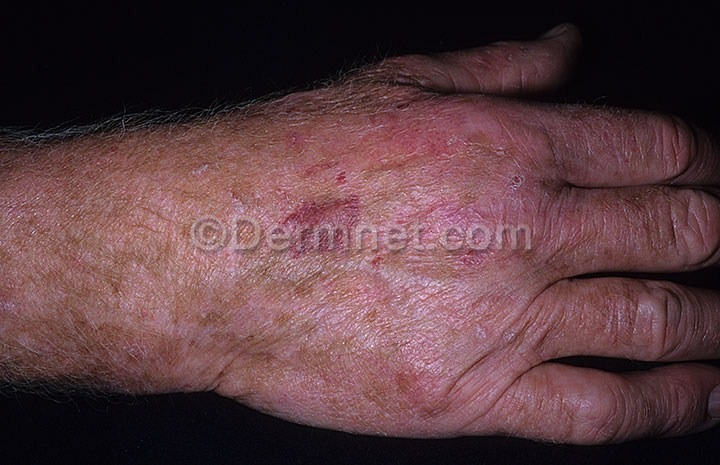Melasma: (337, 11, 690, 73), (345, 313, 488, 434)
